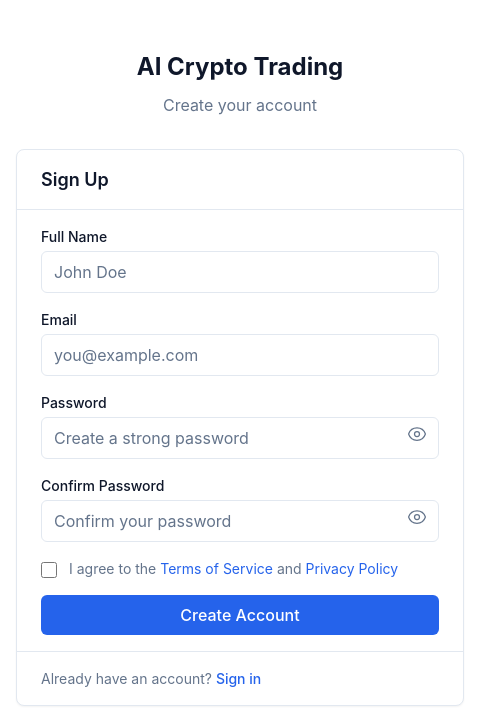
Test: Signup Page › Form Validation › should show error when passwords do not match
In the field labelled "Full Name": (240, 272) [41,250,439,292], type "Test User"
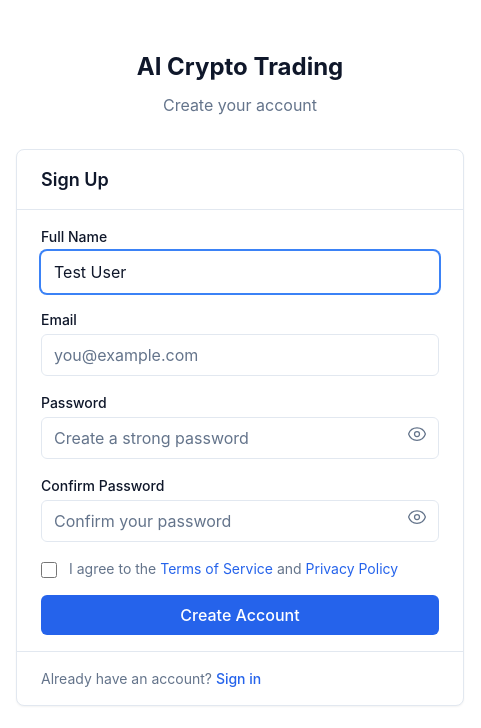
In the field labelled "Email": (240, 354) [41,334,439,376], type "test@example.com"
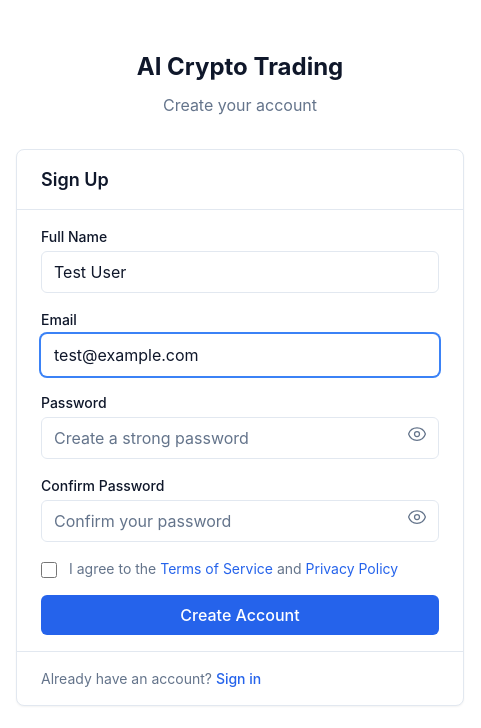
In the password field labelled "Password": (240, 438) [41,416,439,458], type "StrongP@ss123!"
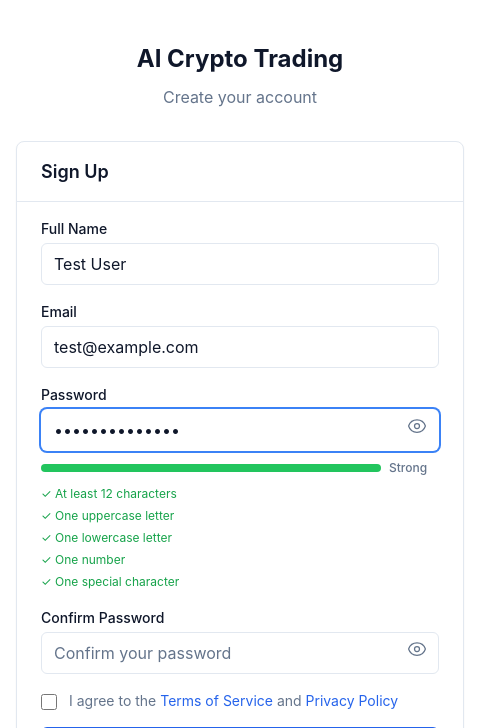
In the password field with id "confirmPassword": (240, 653) [41,632,439,674], type "DifferentP@ss123!"
(page scrolled)
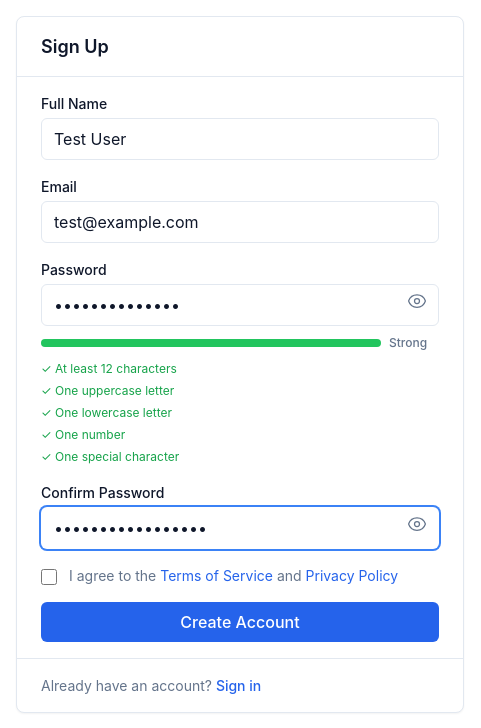
Click the button "Create Account": (240, 622) [41,602,439,642]
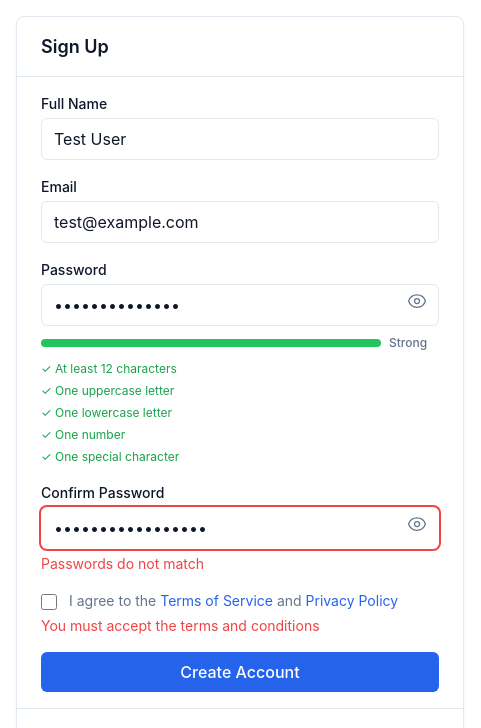
Result: the text "Passwords do not match" is shown at [41,555,204,572]
